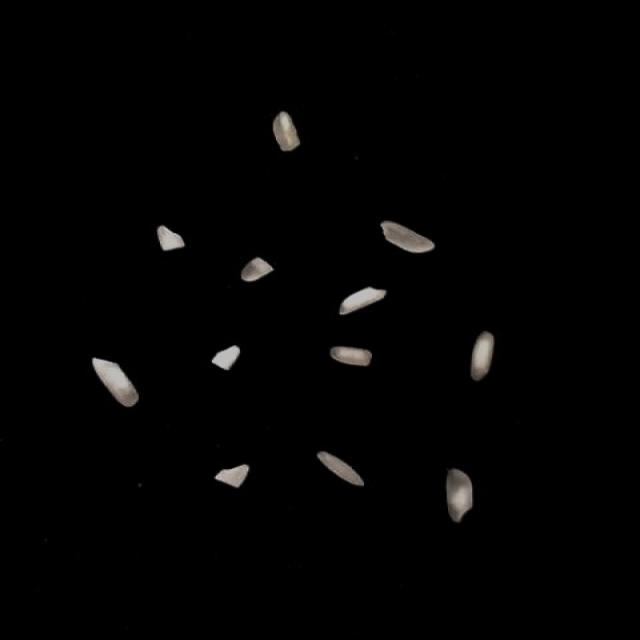Broken: (273, 111, 301, 151), (213, 465, 250, 489), (240, 257, 274, 282), (331, 346, 372, 366), (157, 225, 186, 251), (211, 345, 241, 370)
Full: (92, 357, 139, 408), (381, 220, 435, 253), (316, 451, 364, 486), (446, 467, 473, 523), (337, 286, 389, 315), (470, 330, 495, 382)
